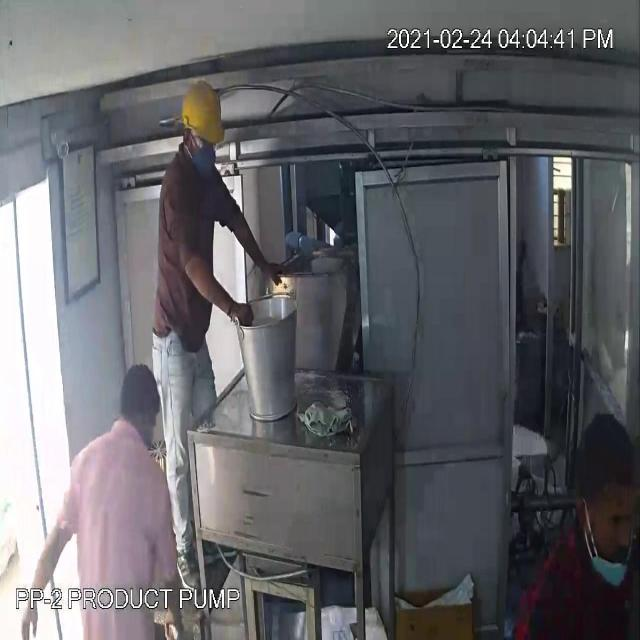helmet: (178, 71, 232, 155)
no-helmet: (567, 414, 640, 534)
